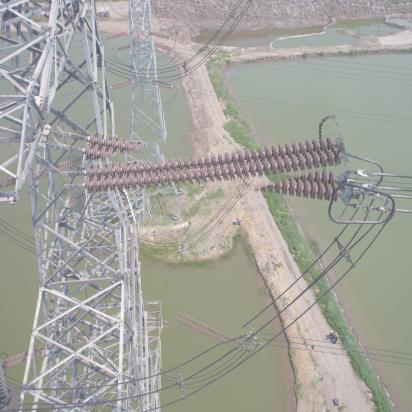insulator: (64, 112, 349, 222), (171, 313, 249, 347)
